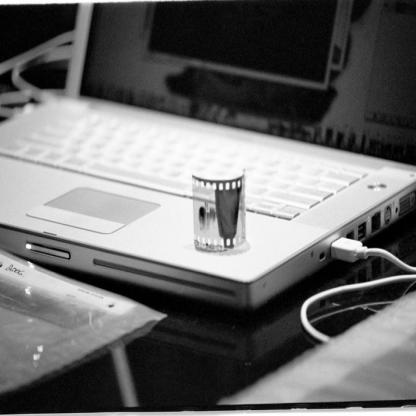board: (0, 0, 416, 308)
